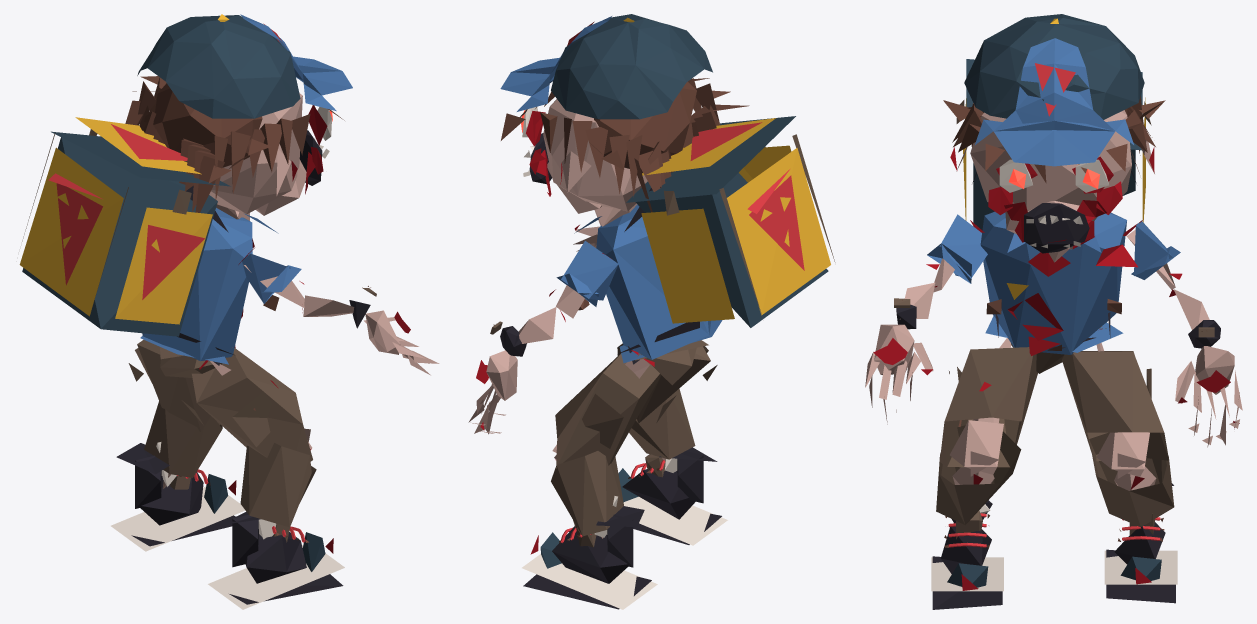
The model's file is inf.delivery-driver.lod2.glb.
3 renders of one model, left to right at view 1: azimuth 30°, elevation 25°; view 2: azimuth 150°, elevation 25°; view 3: azimuth 270°, elevation 25°, orthographic. The views are drawn at different scales.
Visible parts, largest first — view 1: torso, head, footR, footL, legR, shinR, shinL, legL, armR, handR, foreArmR, hip; view 2: torso, head, footL, legL, footR, shinL, armL, shinR, handL, foreArmL, legR, hip; view 3: head, torso, legL, legR, shinL, shinR, footR, footL, handR, handL, armR, armL (+3 smaller).
Boxes of the visible parts, bbox=[...] form: torso: bbox=[19, 117, 279, 364]; head: bbox=[125, 14, 352, 220]; footR: bbox=[208, 511, 344, 609]; footL: bbox=[111, 442, 245, 551]; legR: bbox=[181, 348, 312, 461]; shinR: bbox=[240, 428, 316, 527]; shinL: bbox=[144, 401, 222, 488]; legL: bbox=[128, 339, 210, 431]; armR: bbox=[242, 253, 304, 307]; handR: bbox=[364, 310, 439, 375]; foreArmR: bbox=[299, 281, 376, 328]; hip: bbox=[160, 347, 232, 377]; torso: bbox=[574, 116, 835, 363]; head: bbox=[500, 14, 749, 226]; footL: bbox=[522, 496, 657, 609]; legL: bbox=[555, 353, 676, 468]; footR: bbox=[618, 447, 727, 545]; shinL: bbox=[551, 444, 623, 538]; armL: bbox=[556, 241, 618, 318]; shinR: bbox=[629, 388, 695, 463]; handL: bbox=[468, 350, 517, 434]; foreArmL: bbox=[490, 289, 556, 356]; legR: bbox=[617, 343, 717, 423]; hip: bbox=[628, 340, 708, 385]; head: bbox=[943, 14, 1165, 262]; torso: bbox=[956, 59, 1151, 355]; legL: bbox=[1062, 342, 1168, 461]; legR: bbox=[939, 338, 1037, 467]; shinL: bbox=[1089, 432, 1174, 527]; shinR: bbox=[936, 420, 1021, 525]; footR: bbox=[931, 500, 1003, 609]; footL: bbox=[1104, 483, 1177, 603]; handR: bbox=[865, 324, 933, 424]; handL: bbox=[1175, 346, 1242, 447]; armR: bbox=[927, 214, 987, 292]; armL: bbox=[1126, 220, 1180, 289].
Bounding box in the file's own units: 0.9826 × 1.68 × 1.03.
